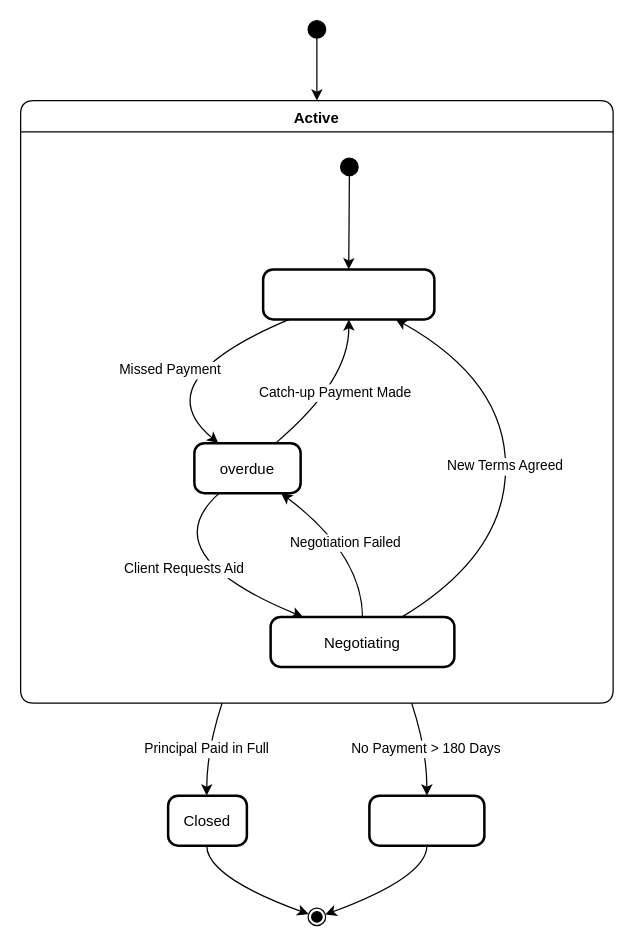
Some shapes in this 634 by 946 pixel diagram are drawn without their labels. Here are the shapes that lost their labels. From the top down, the box of each, then its label:
(261, 268, 435, 320): up to date
(368, 794, 485, 846): unpaid
